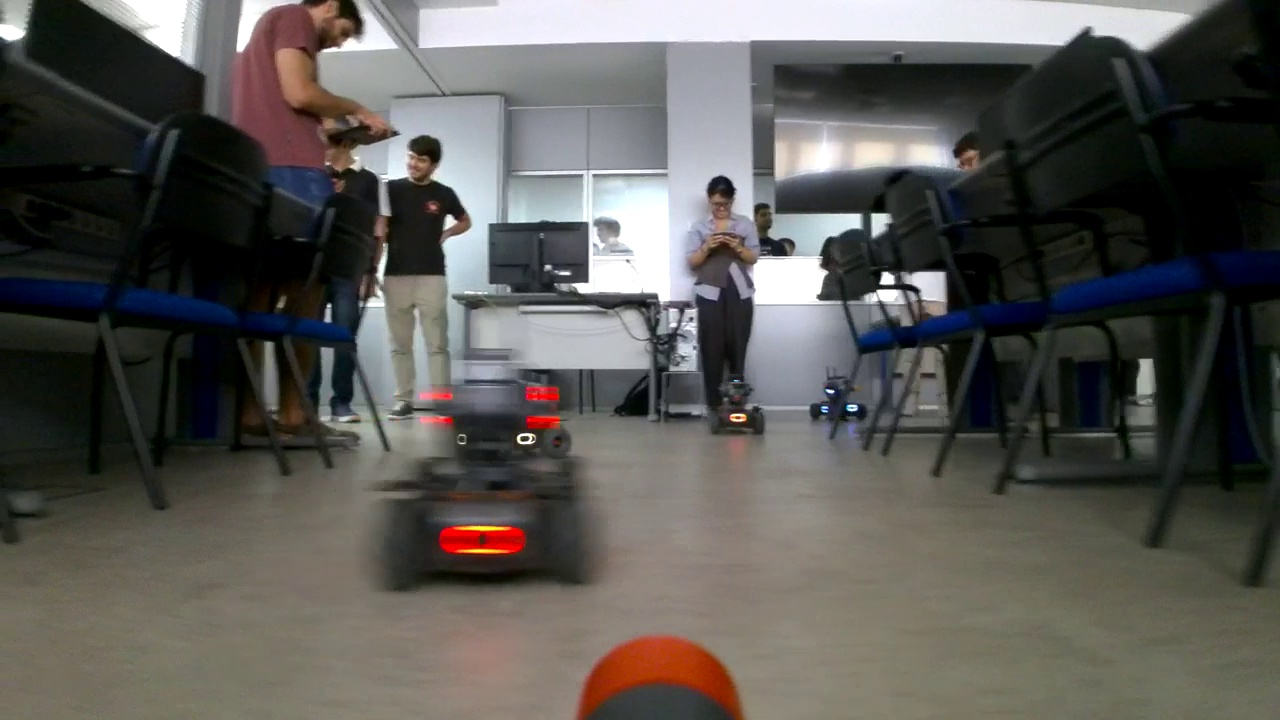robot: (390, 362, 577, 588), (713, 368, 763, 433), (809, 367, 865, 419)
